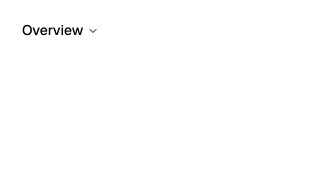
Test: NavigationMenu › renders a popup arrow when showArrow is set
The image size is (332, 172).
Click the button "Overview". click: (61, 30)
box: [12,12,109,48]
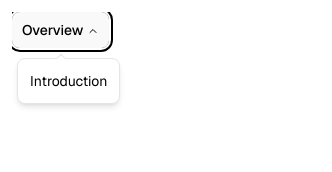
Expected: the link "Introduction" is shown, [30,72,107,90]
